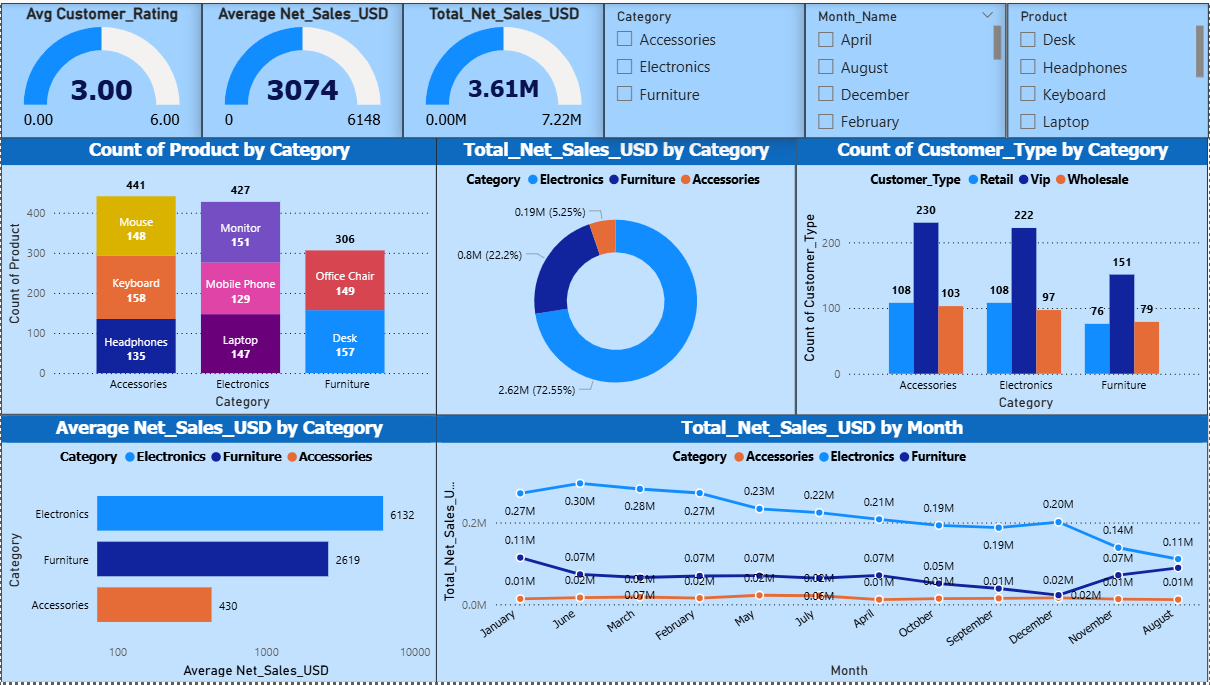

The dashboard page shown, as its layout file describes it:
{"tool":"powerbi","page":{"name":"Dashboard 1: Category Performance Analysis","canvas":[1280,720],"ordinal":0},"visuals":[{"type":"gauge","fields":{"Y":["Sheet1.Avg Customer_Rating"]},"box":[0,0,213.3,143.3],"z":0},{"type":"gauge","fields":{"Y":["Sheet1.Average Net_Sales_USD"]},"box":[213.3,0,213.3,143.3],"z":1000},{"type":"gauge","fields":{"Y":["Sheet1.Total_Net_Sales_USD"]},"box":[426.7,0,213.3,143.3],"z":2000},{"type":"barChart","title":"Average Net_Sales_USD by Category","fields":{"Category":["Sheet1.Category"],"Y":["Sheet1.Average Net_Sales_USD"],"Series":["Sheet1.Category"]},"box":[0,436.7,461.7,283.3],"z":3000},{"type":"donutChart","fields":{"Category":["Sheet1.Category"],"Y":["Sheet1.Total_Net_Sales_USD"]},"box":[461.5,142.9,381,294],"z":4000},{"type":"lineChart","title":"Total_Net_Sales_USD by Month","fields":{"Y":["Sheet1.Total_Net_Sales_USD"],"Category":["Sheet1.Date.Variation.Date Hierarchy.Year","Sheet1.Date.Variation.Date Hierarchy.Month"],"Series":["Sheet1.Category"]},"box":[461.7,436.7,818.3,283.3],"z":5000},{"type":"columnChart","title":"Count of Product by Category","fields":{"Category":["Sheet1.Category"],"Y":["CountNonNull(Sheet1.Product)"],"Series":["Sheet1.Product"]},"box":[0,143.3,461.7,293.3],"z":6000},{"type":"slicer","fields":{"Values":["Sheet1.Category"]},"box":[640,0,213.3,143.3],"z":7000},{"type":"slicer","fields":{"Values":["Sheet1.Month_Name"]},"box":[853.3,0,213.3,143.3],"z":8000},{"type":"slicer","fields":{"Values":["Sheet1.Product"]},"box":[1066.7,0,213.3,143.3],"z":9000},{"type":"clusteredColumnChart","title":"Count of Customer_Type by Category","fields":{"Category":["Sheet1.Category"],"Y":["CountNonNull(Sheet1.Customer_Type)"],"Series":["Sheet1.Customer_Type"]},"box":[842.6,142.9,436.9,294],"z":10000}]}

Visuals, with their boxes in screenshot pixels (x1, y1, x2, y2), scaled from the page's 1280x720 canvas onto the 1210x685 screenshot:
gauge - Sheet1.Avg Customer_Rating: <region>0, 0, 202, 136</region>
gauge - Sheet1.Average Net_Sales_USD: <region>202, 0, 403, 136</region>
gauge - Sheet1.Total_Net_Sales_USD: <region>403, 0, 605, 136</region>
"Average Net_Sales_USD by Category" barChart: <region>0, 415, 436, 684</region>
donutChart - Sheet1.Category x Sheet1.Total_Net_Sales_USD: <region>436, 136, 796, 416</region>
"Total_Net_Sales_USD by Month" lineChart: <region>436, 415, 1209, 684</region>
"Count of Product by Category" columnChart: <region>0, 136, 436, 415</region>
slicer - Sheet1.Category: <region>605, 0, 807, 136</region>
slicer - Sheet1.Month_Name: <region>807, 0, 1008, 136</region>
slicer - Sheet1.Product: <region>1008, 0, 1209, 136</region>
"Count of Customer_Type by Category" clusteredColumnChart: <region>797, 136, 1209, 416</region>
